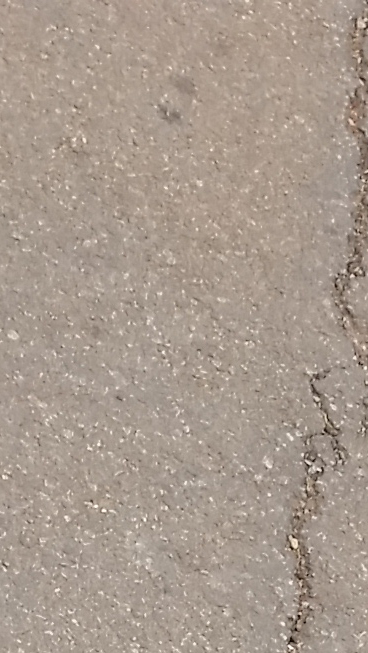A: (263, 17, 368, 645)
